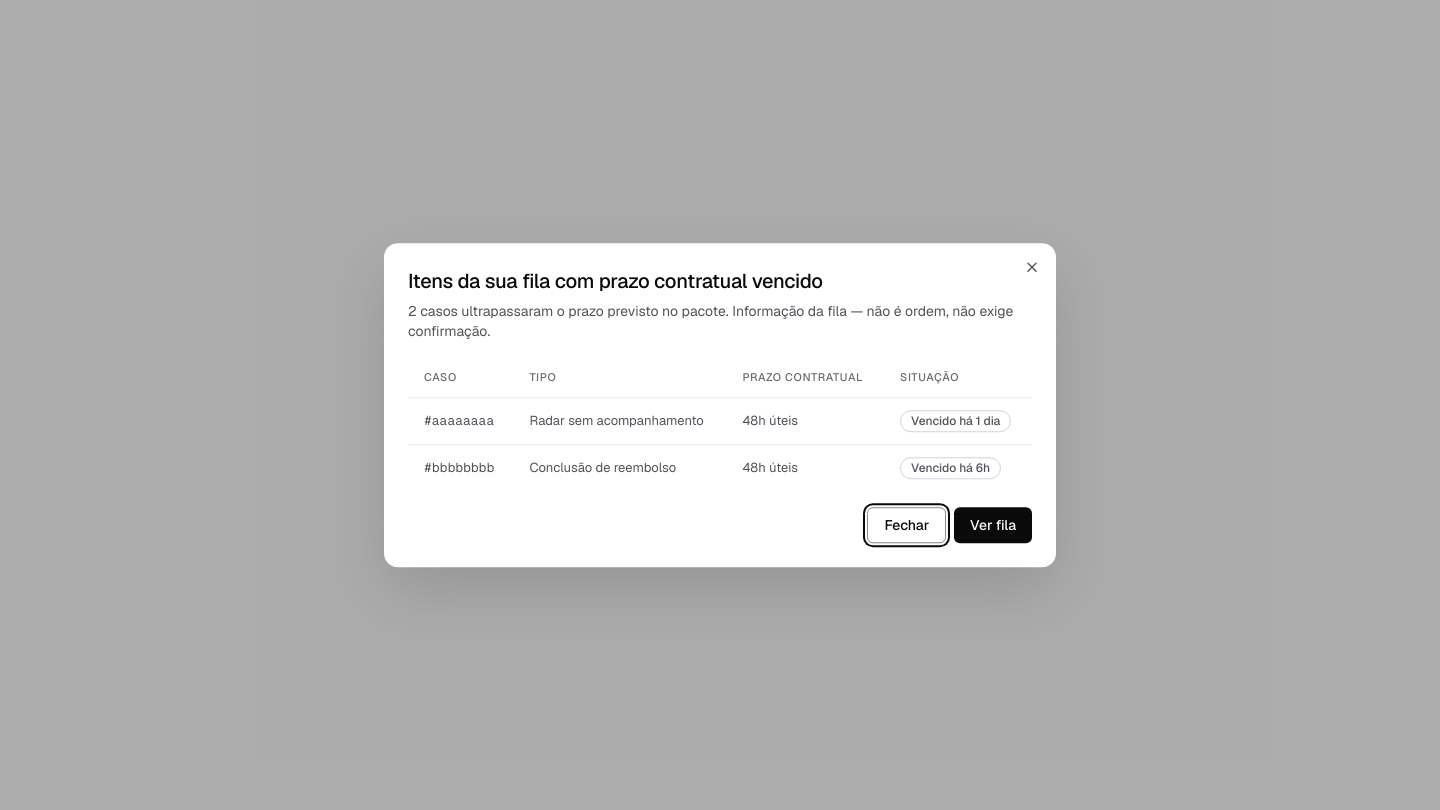
Scenario: OverdueQueueAlert › Ver fila leva à tela do caso mais antigo
The image size is (1440, 810).
Step 1. Click the button "Ver fila" → (993, 525), box top-left (954, 507), bottom-right (1032, 543)
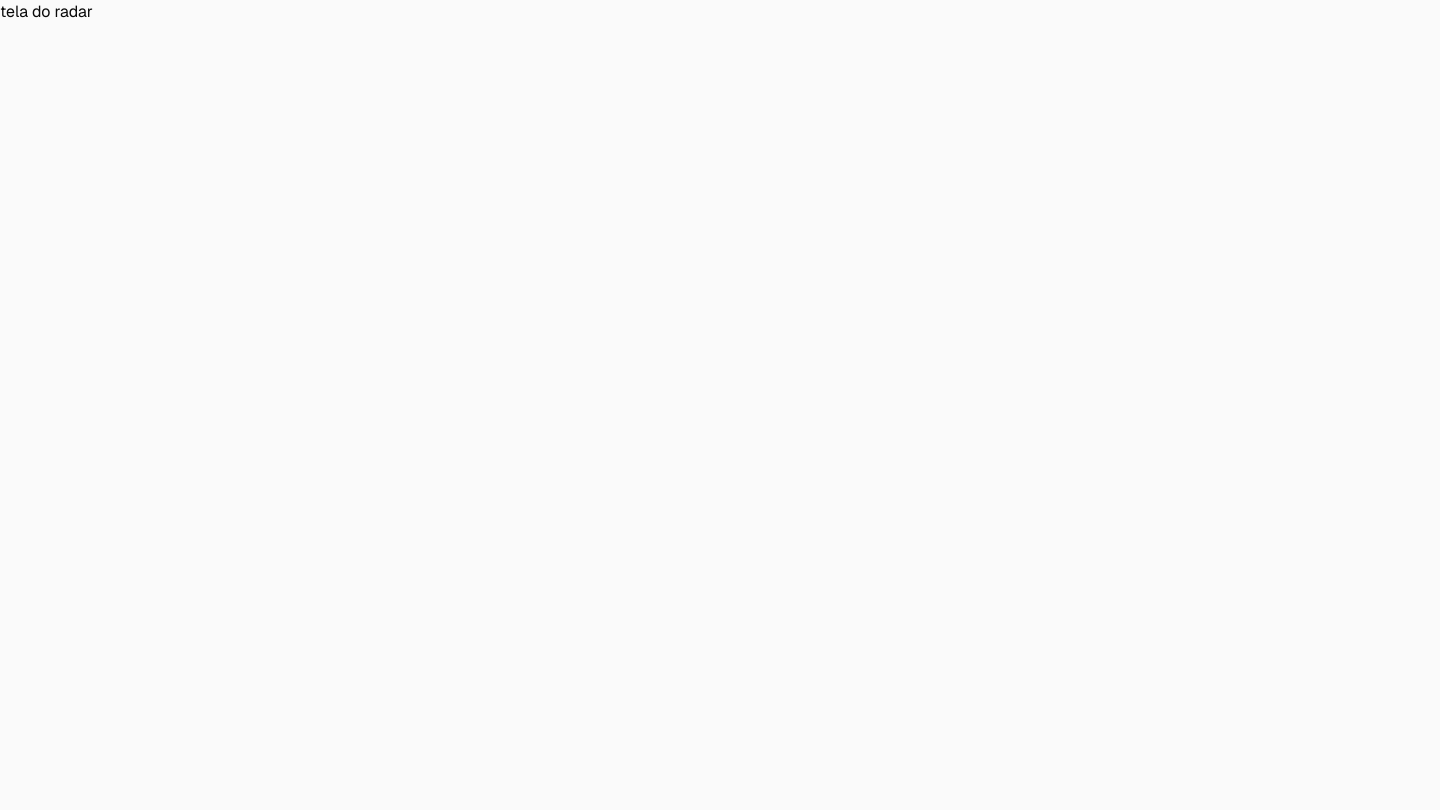
Now the text "tela do radar" is shown, box top-left (0, 1), bottom-right (93, 22)
